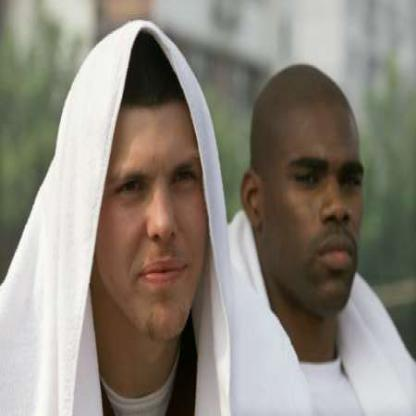face: (86, 32, 213, 346), (263, 71, 374, 322)
